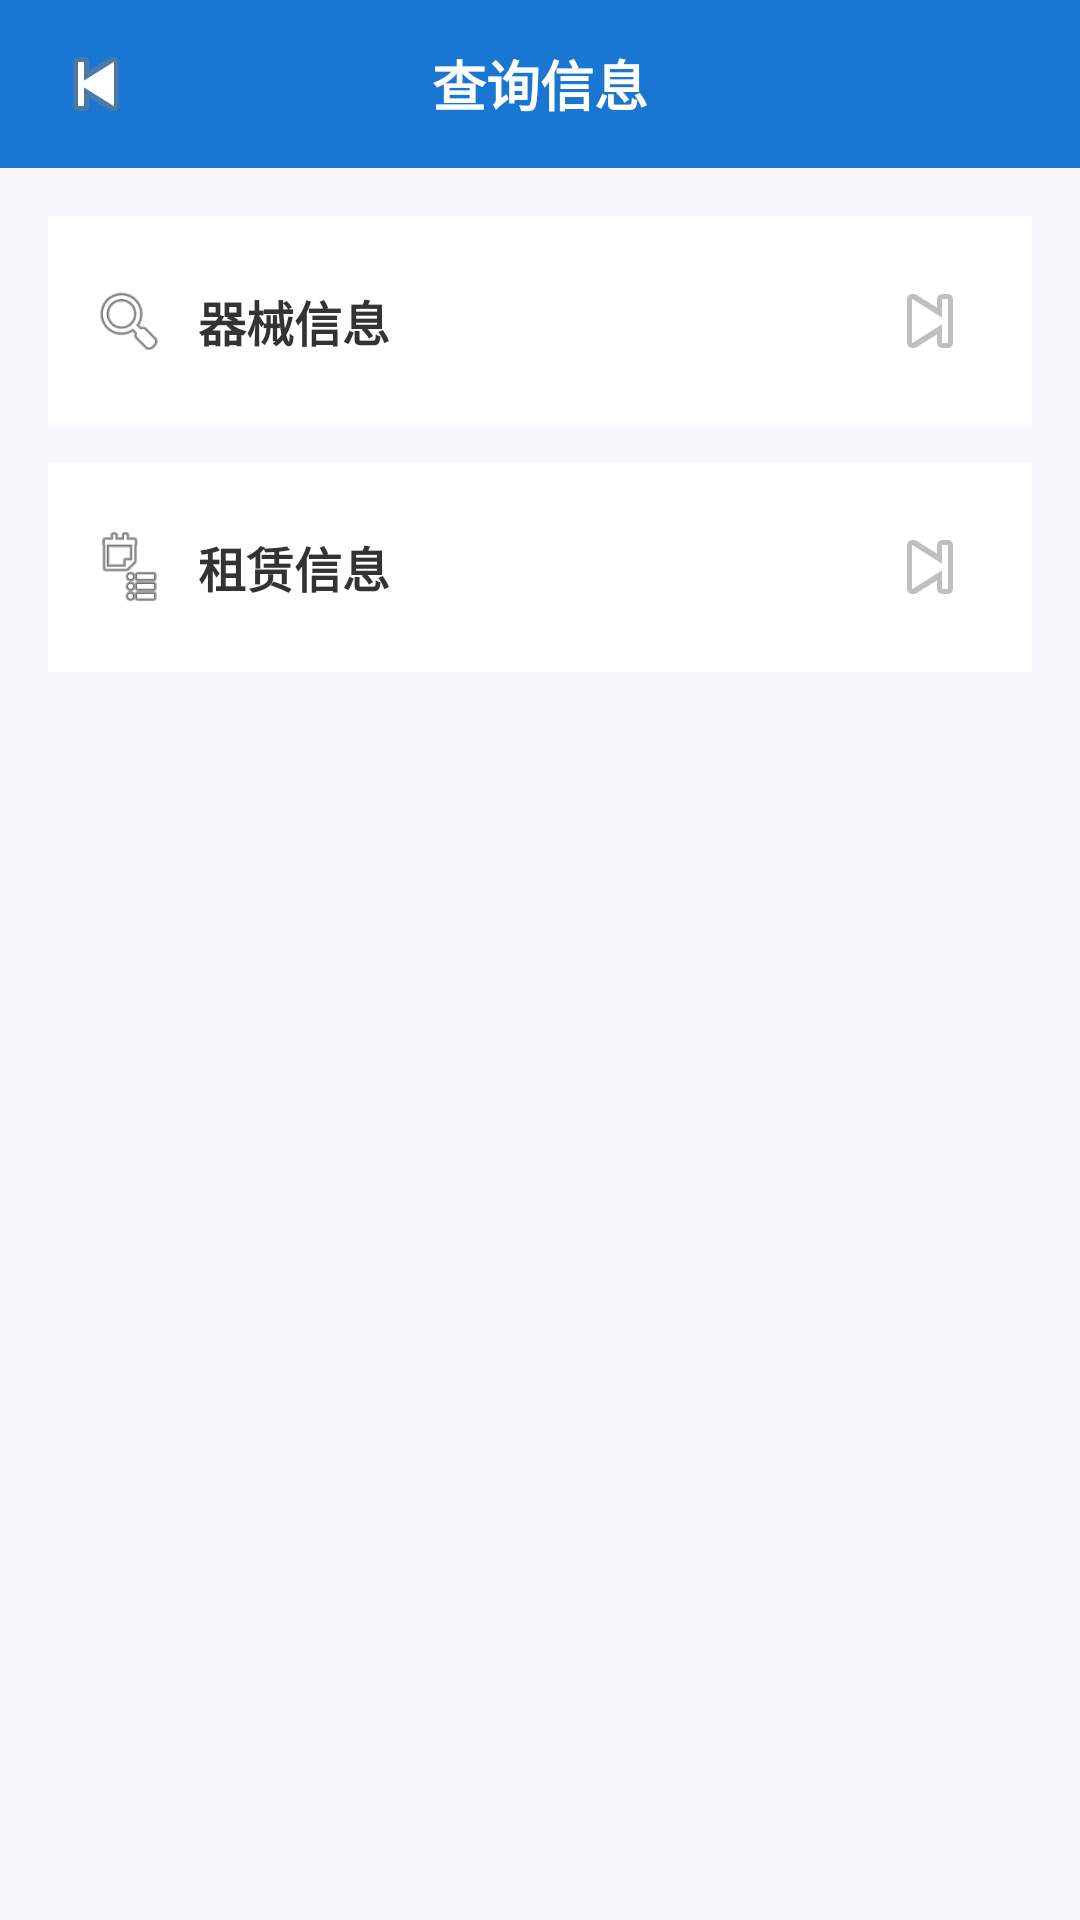

Screen size 1080w x 1920h. Icon name, then its box in pixels as (x1, y1, x2, y2):
agenda: (102, 532, 157, 601)
next: (907, 294, 953, 348), (907, 540, 953, 594)
previous: (73, 57, 119, 111)
search: (100, 292, 158, 350)
